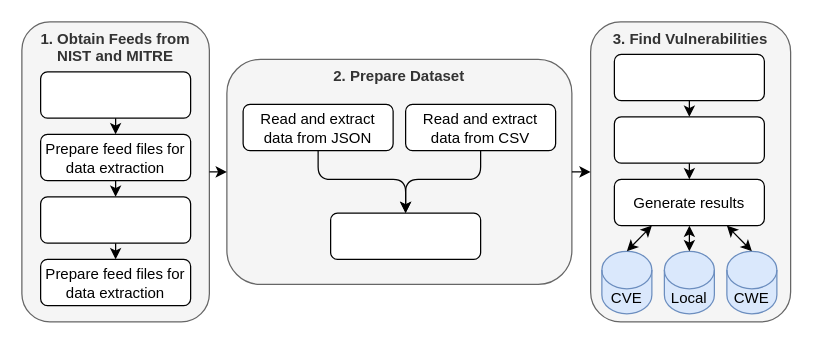
Image size: 813x344. Some labels were removed from this diagram. Each missing label, with the centre of its shape:
Fetch product details from network nodes: pixel 688 77
Find CVEs for the products: pixel 688 139
Generate keywords: pixel 405 235
Obtain CSV feeds from MITRE CWE: pixel 115 219
Obtain JSON feeds from NVD: pixel 115 94
